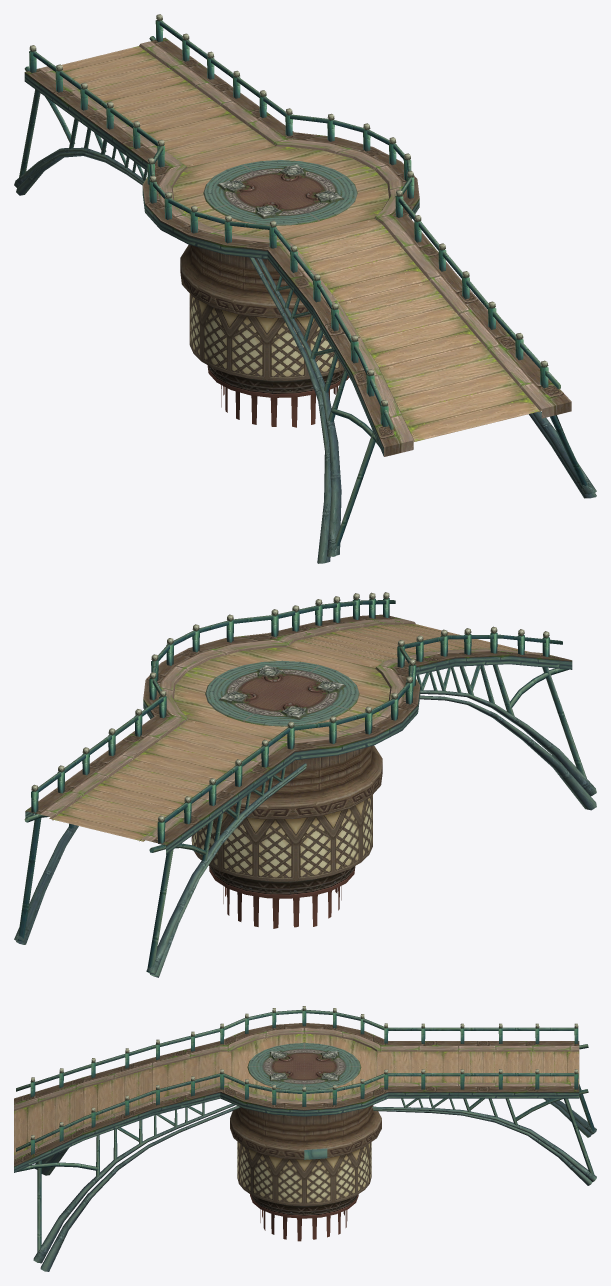
The model's file is yw_tangmen_qiao01_53_57_1658out.fbx.
3 views of the same model, one above another, from view 1: azimuth 30°, elevation 25°; view 2: azimuth 150°, elevation 25°; view 3: azimuth 270°, elevation 25° (orthographic). The views are drawn at different scales.
Visible parts, largest first — view 1: yw_tangmen_qiao01; view 2: yw_tangmen_qiao01; view 3: yw_tangmen_qiao01.
Boxes of the visible parts, x1,y1,x2,y2 form: yw_tangmen_qiao01: [14, 14, 596, 563]; yw_tangmen_qiao01: [14, 592, 596, 977]; yw_tangmen_qiao01: [14, 1006, 596, 1271].
Bounding box in the file's own units: 7.48 × 6.13 × 18.33.
